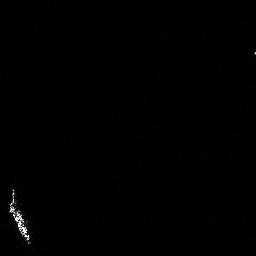ship: (7, 185, 34, 246)
